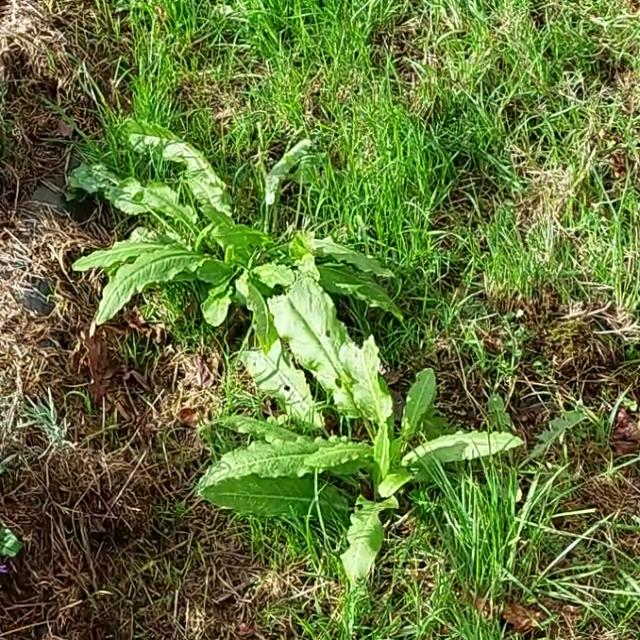organic waste: (54, 108, 433, 387), (176, 286, 526, 570)
